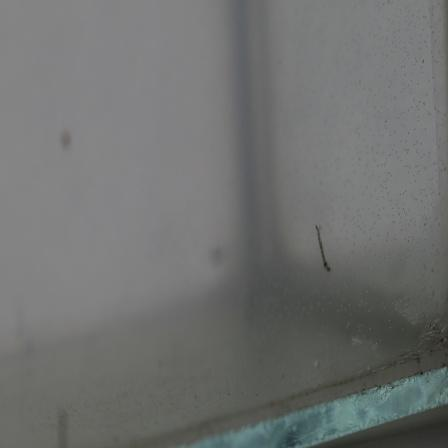Jentik-Nyamuk: (309, 223, 335, 273)
